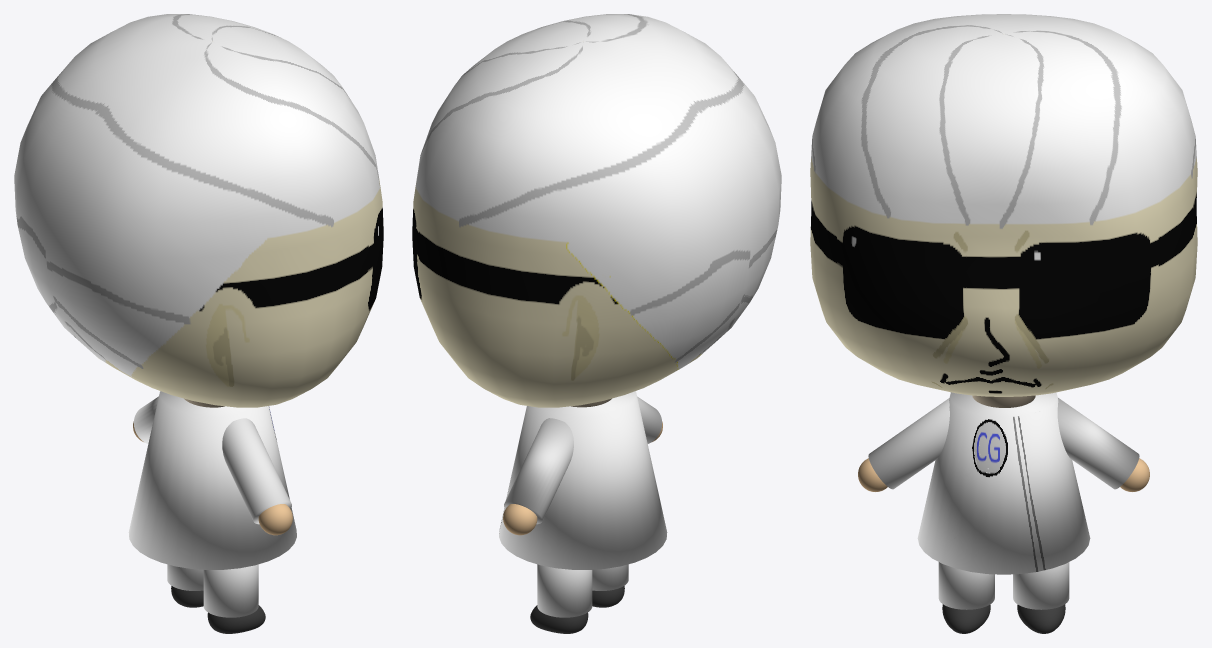
File: dragonking.glb
The picture shows the model from 3 angles, left to right: view 1: azimuth 30°, elevation 25°; view 2: azimuth 150°, elevation 25°; view 3: azimuth 270°, elevation 25°; orthographic projection. The views are drawn at different scales.
Visible parts, largest first — view 1: 구체, 실린더.001, 실린더.003, 실린더.002, 구체.002, 구체.001; view 2: 구체, 실린더.001, 실린더.003, 실린더.002, 구체.002, 구체.001; view 3: 구체, 실린더.001, 실린더.003, 실린더.002, 구체.002, 구체.001, 실린더.
Boxes of the visible parts, box(x1,y1,x2,y2) form: 구체: box(14, 14, 383, 407); 실린더.001: box(128, 391, 296, 569); 실린더.003: box(133, 396, 291, 524); 실린더.002: box(167, 564, 258, 617); 구체.002: box(171, 586, 265, 633); 구체.001: box(133, 421, 292, 535); 구체: box(412, 14, 781, 407); 실린더.001: box(499, 391, 667, 569); 실린더.003: box(504, 396, 662, 524); 실린더.002: box(537, 564, 628, 617); 구체.002: box(530, 586, 624, 633); 구체.001: box(503, 421, 662, 535); 구체: box(810, 14, 1197, 396); 실린더.001: box(917, 392, 1090, 574); 실린더.003: box(868, 398, 1139, 489); 실린더.002: box(938, 562, 1069, 609); 구체.002: box(942, 604, 1065, 633); 구체.001: box(858, 458, 1149, 491); 실린더: box(972, 395, 1035, 407).
Bounding box in the file's own units: 3.3 × 5.91 × 3.53.
Materials: 7 (2 with a texture image).
